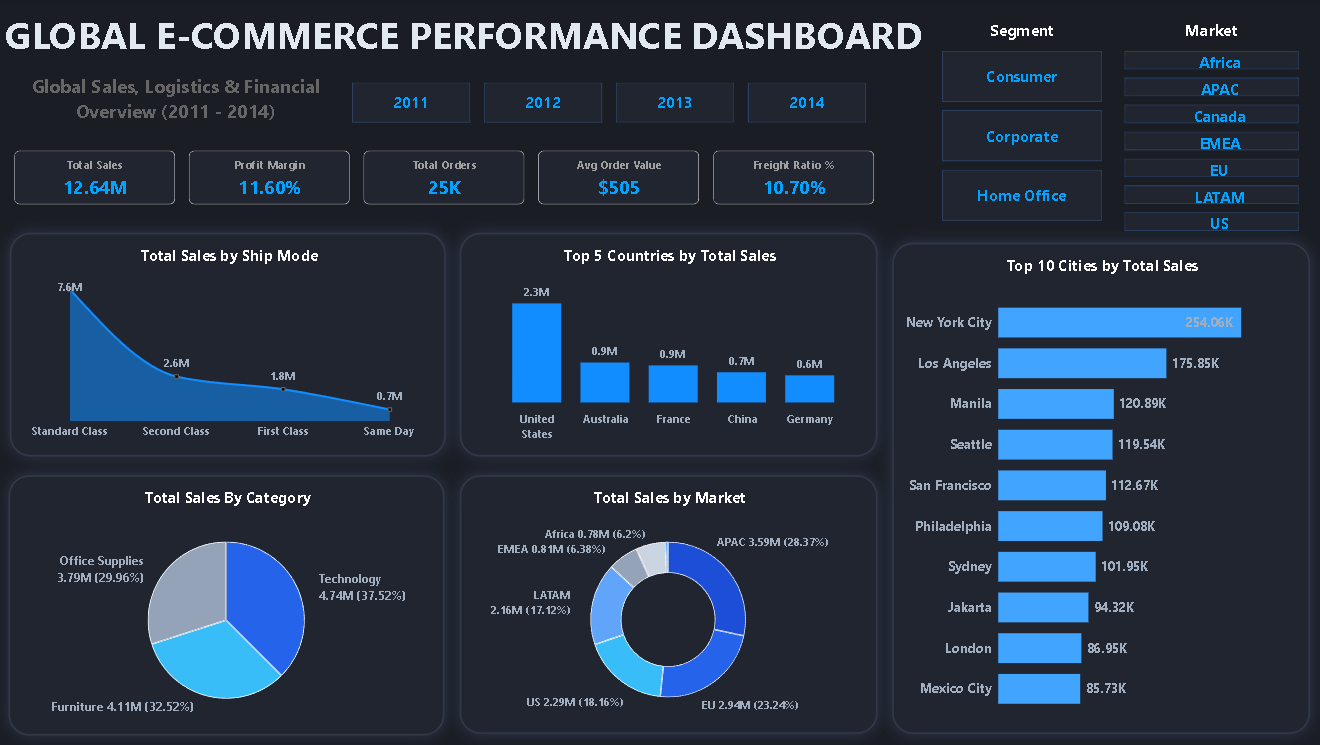

The page's visual inventory and layout, read from the dashboard file:
{"tool":"powerbi","page":{"name":"Executive overview","canvas":[1920,1080],"ordinal":0},"visuals":[{"type":"pieChart","title":"Total Sales By Category","fields":{"Category":["Orders.Category"],"Y":["Sum(Orders.Sales)"]},"box":[18.1,689.5,631.6,376.4],"z":0},{"type":"donutChart","title":"Total Sales by Market","fields":{"Category":["Orders.Market"],"Y":["Sum(Orders.Sales)"]},"box":[671.4,689.5,604.4,374.6],"z":1000},{"type":"clusteredBarChart","title":"Top 10 Cities by Total Sales","fields":{"Category":["Orders.City"],"Y":["Sum(Orders.Sales)"]},"box":[1297.5,352.9,604.4,711.2],"z":2000},{"type":"columnChart","title":"Top 5 Countries by Total Sales","fields":{"Category":["Orders.Country"],"Y":["Sum(Orders.Sales)"]},"box":[671.4,338.4,604.4,323.9],"z":3000},{"type":"areaChart","title":"Total Sales by Ship Mode","fields":{"Category":["Orders.Ship Mode"],"Y":["Sum(Orders.Sales)"]},"box":[19.9,338.4,631.6,323.9],"z":4000},{"type":"cardVisual","fields":{"Data":["Sum(Orders.Sales)","Orders.Profit Margin %","Count(Orders.Order ID)","Orders.Average Order Value","Orders.Freight Ratio %"]},"box":[0,195.4,1297.5,128.5],"z":5000},{"type":"textbox","box":[0,14.5,1353.6,85.1],"z":6000},{"type":"advancedSlicerVisual","title":"Segment","fields":{"Values":["Orders.Segment"]},"box":[1354.4,14.4,263.5,323.2],"z":7000},{"type":"advancedSlicerVisual","fields":{"Values":["Orders.year"]},"box":[499.5,106.8,776.3,88.7],"z":8000},{"type":"textbox","box":[20,106,480,96],"z":9000},{"type":"listSlicer","fields":{"Values":["Orders.Market"]},"box":[1617.8,14.4,284.1,342],"z":10000}]}

Visuals, with their boxes in screenshot pixels (x1, y1, x2, y2), scaled from the page's 1920x1080 canvas onto the 1320x745 screenshot:
"Total Sales By Category" pieChart: 12/476/447/735
"Total Sales by Market" donutChart: 462/476/877/734
"Top 10 Cities by Total Sales" clusteredBarChart: 892/243/1308/734
"Top 5 Countries by Total Sales" columnChart: 462/233/877/457
"Total Sales by Ship Mode" areaChart: 14/233/448/457
cardVisual - Sum(Orders.Sales) x Orders.Profit Margin %: 0/135/892/223
textbox: 0/10/931/69
"Segment" advancedSlicerVisual: 931/10/1112/233
advancedSlicerVisual - Orders.year: 343/74/877/135
textbox: 14/73/344/139
listSlicer - Orders.Market: 1112/10/1308/246
